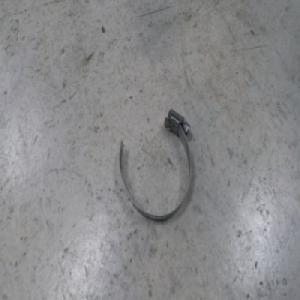AdjustableClamp: (118, 108, 192, 222)
